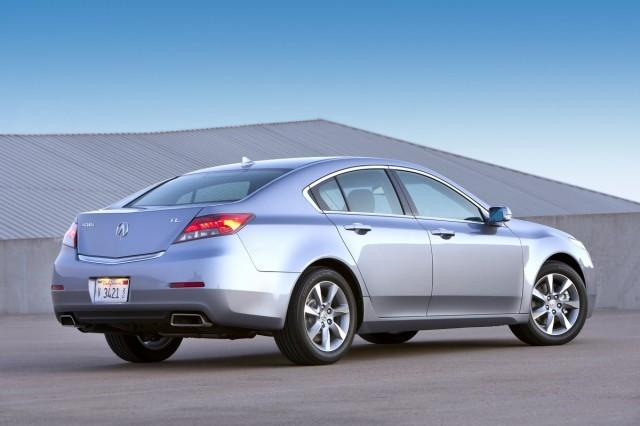Sedan: (50, 154, 597, 366)
